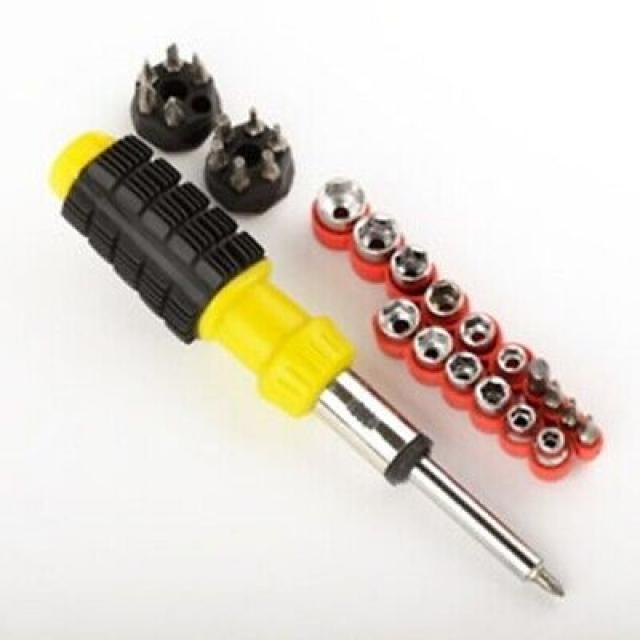screwdriver: (41, 127, 572, 611)
